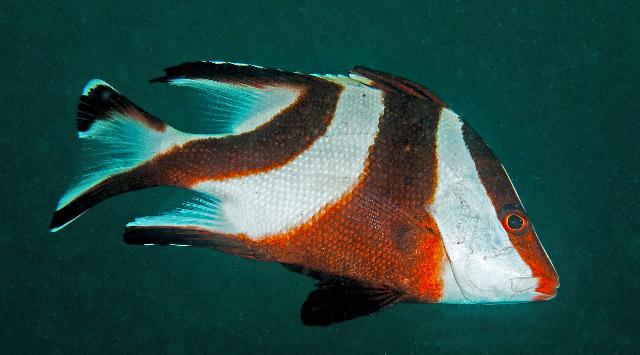Mulut: (460, 260, 580, 328)
Sirip Anal: (116, 187, 274, 271)
Sirip Dada: (311, 158, 444, 266)
Sirip Ekor: (34, 70, 160, 242)
Sirip Perut: (281, 262, 417, 336)
Sirip Punggung: (146, 46, 462, 144)
